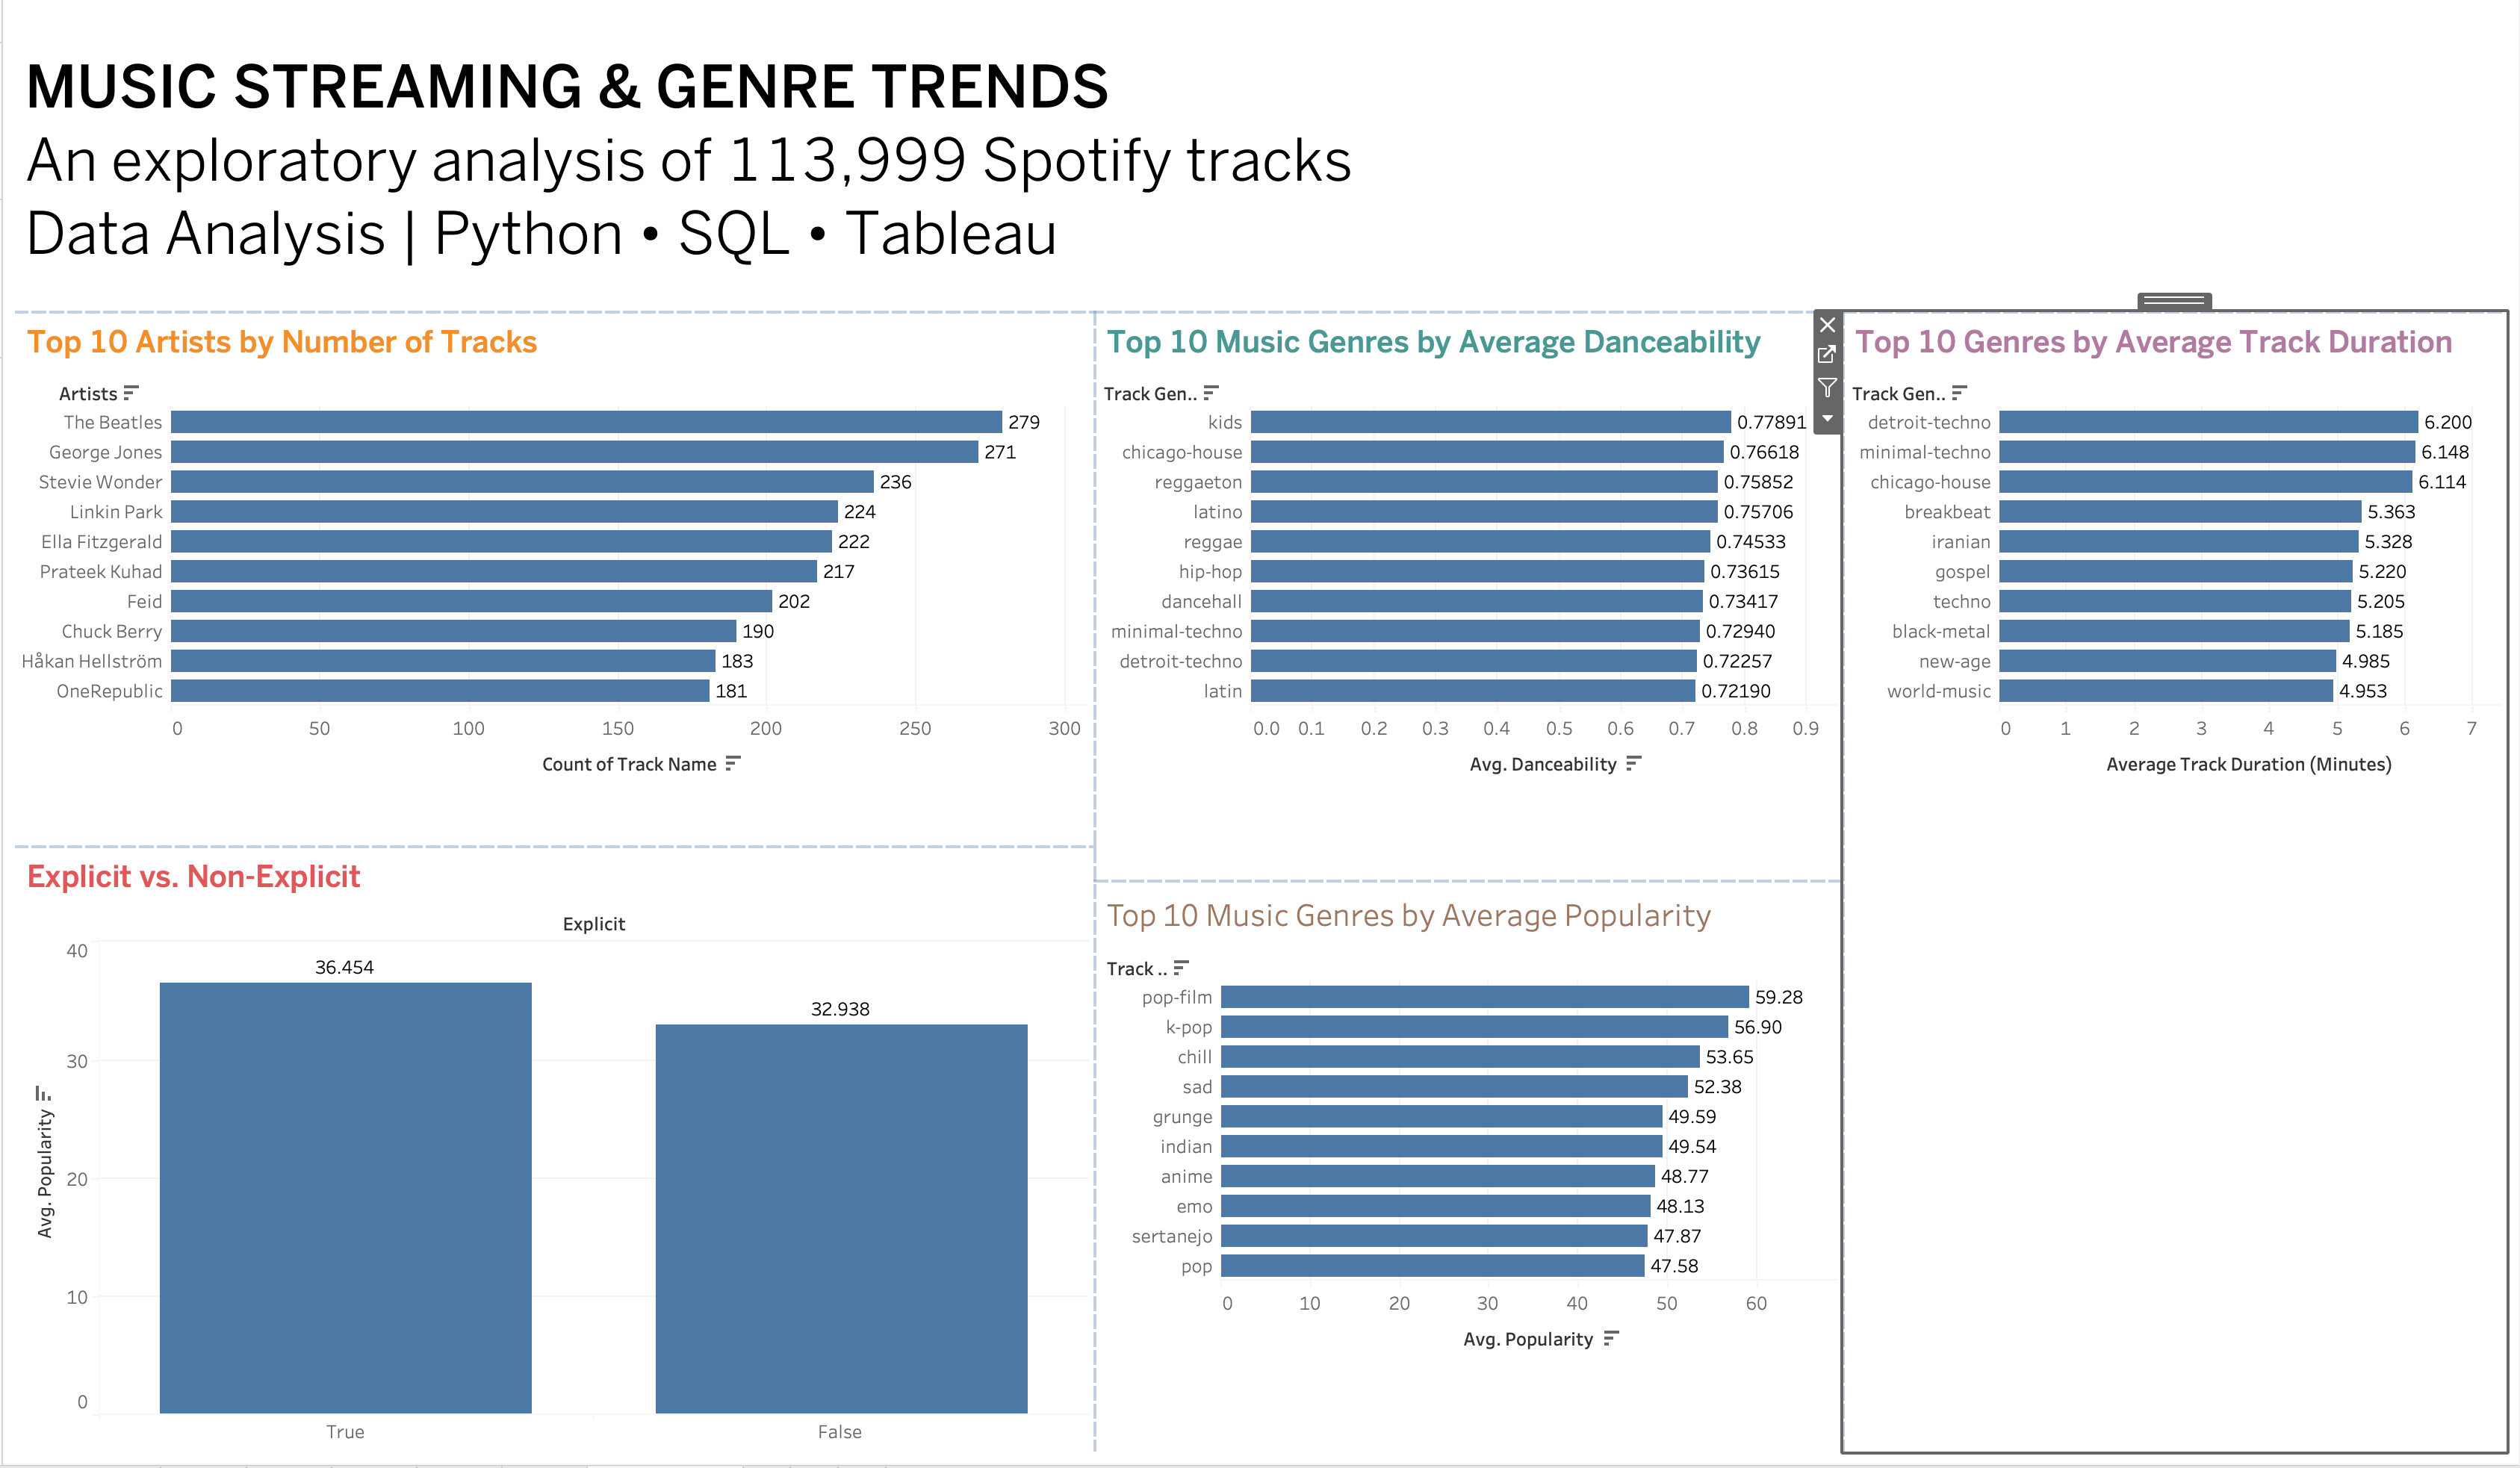

This screenshot's page, from the dashboard's own definition file:
{"tool":"tableau","page":{"name":"Dashboard 1","canvas":[1000,1000],"units":"permille","ordinal":0},"visuals":[{"type":"text","box":[4.8,8.2,990.5,205.7]},{"type":"worksheet","title":"Sheet 3","mark":"Automatic","rows":["artists"],"cols":["track_name"],"box":[4.8,213.9,429.3,365.1]},{"type":"worksheet","title":"Sheet 2","mark":"Automatic","rows":["track_genre"],"cols":["danceability"],"box":[434.1,213.9,297.6,389]},{"type":"worksheet","title":"Sheet 5","mark":"Automatic","rows":["track_genre"],"cols":["Calculation_6111224715788288"],"box":[731.6,213.9,263.6,778]},{"type":"worksheet","title":"Sheet 4","mark":"Automatic","rows":["popularity"],"cols":["explicit"],"box":[4.8,579,429.3,412.9]},{"type":"worksheet","title":"Sheet 1","mark":"Automatic","rows":["track_genre"],"cols":["popularity"],"box":[434.1,602.9,297.6,389]}]}

Visuals, with their boxes on the dashboard's canvas, which has no fixed pixel size, in thousandths of its width and height (x1, y1, x2, y2). These are canvas units, not pixel positions in the 2520x1468 screenshot, which may show the page scaled, cropped or inside an application window:
text: crop(5, 8, 995, 214)
"Sheet 3" worksheet: crop(5, 214, 434, 579)
"Sheet 2" worksheet: crop(434, 214, 732, 603)
"Sheet 5" worksheet: crop(732, 214, 995, 992)
"Sheet 4" worksheet: crop(5, 579, 434, 992)
"Sheet 1" worksheet: crop(434, 603, 732, 992)
